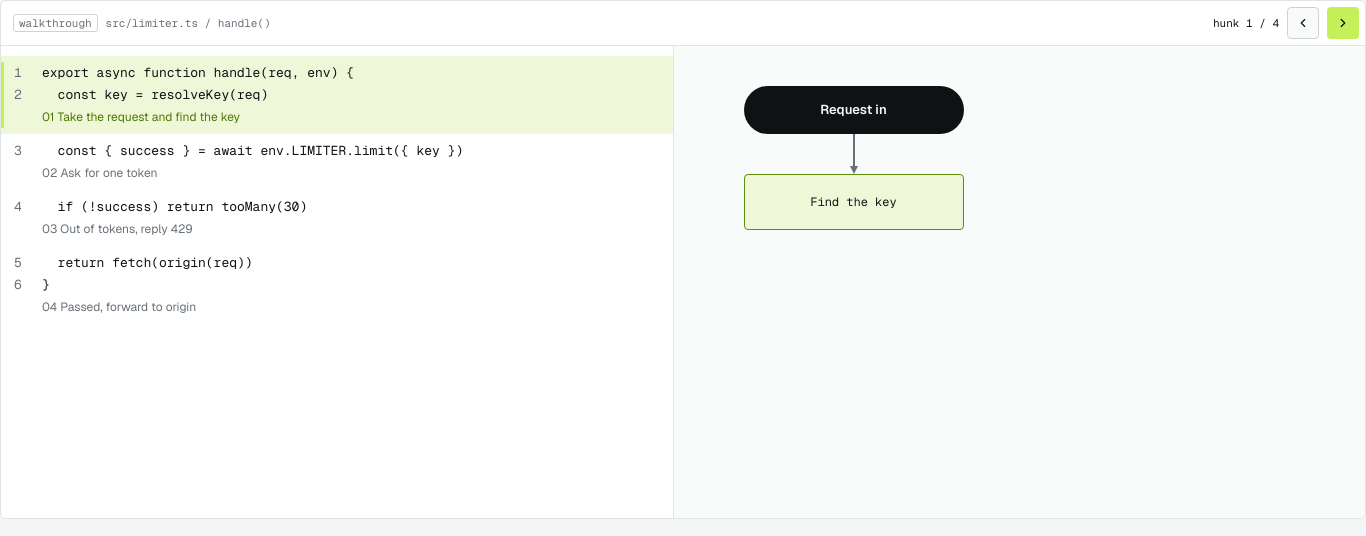
it: Walkthrough › clicking a hunk row picks its step, and the rows stay annotatable leaves
The image size is (1366, 536).
Click the text "if (!success) return tooMany(30)" at (175, 207), box [42, 196, 307, 218]
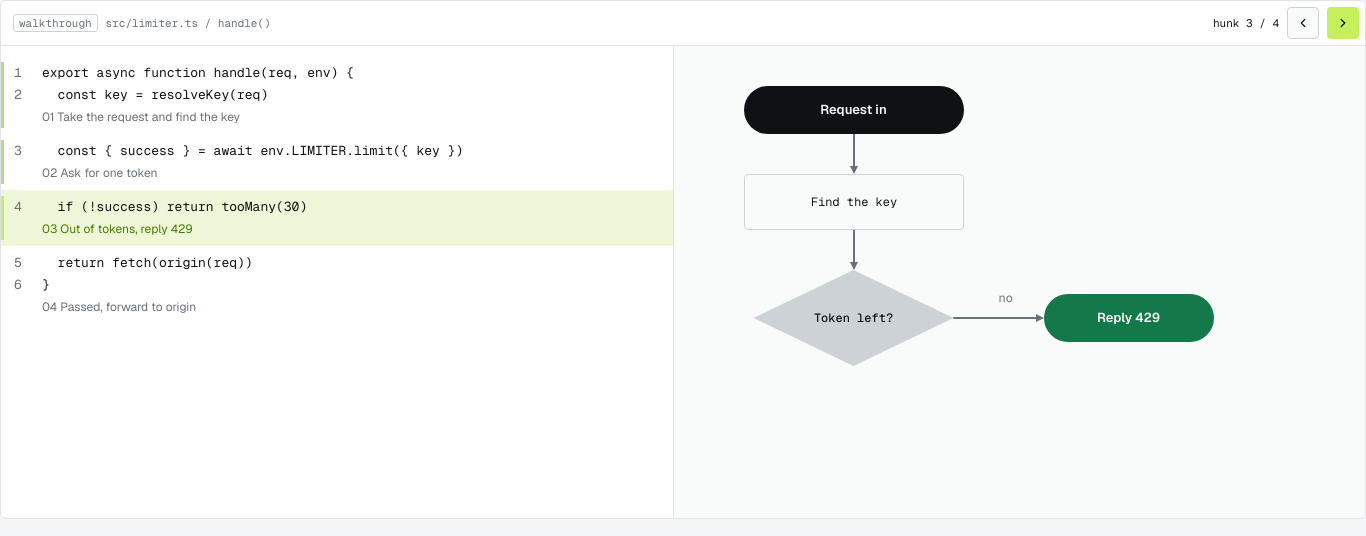
Check: the text "hunk 3 / 4" is shown, box [1213, 16, 1279, 30]
